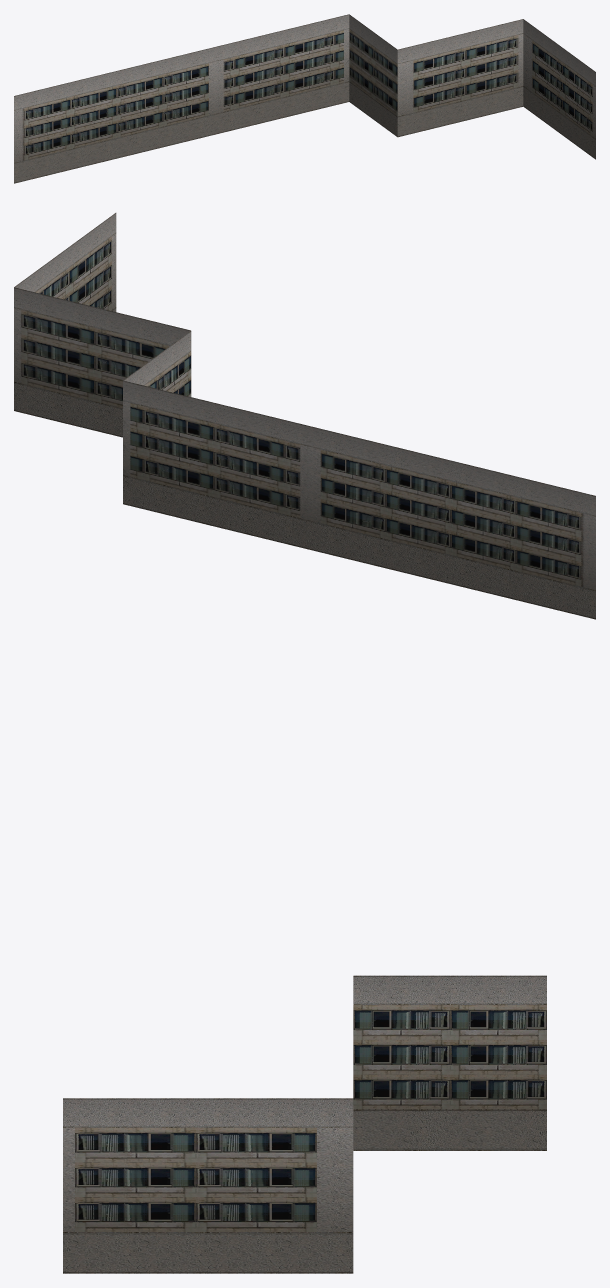
Rendered from M11Z1_TownWall09_C.glb.
3 renders of one model, top to bottom at view 1: azimuth 30°, elevation 25°; view 2: azimuth 150°, elevation 25°; view 3: azimuth 270°, elevation 25°, orthographic. The views are drawn at different scales.
Parts seen in each view (by area): view 1: M11Z1_TOWNWALL09_C; view 2: M11Z1_TOWNWALL09_C; view 3: M11Z1_TOWNWALL09_C.
Boxes of the visible parts, x1,y1,x2,y2 form: M11Z1_TOWNWALL09_C: (14, 14, 595, 183); M11Z1_TOWNWALL09_C: (14, 213, 595, 619); M11Z1_TOWNWALL09_C: (63, 975, 546, 1273).
Bounding box in the file's own units: 88 × 16 × 40.
Materials: 2 (2 with a texture image).
